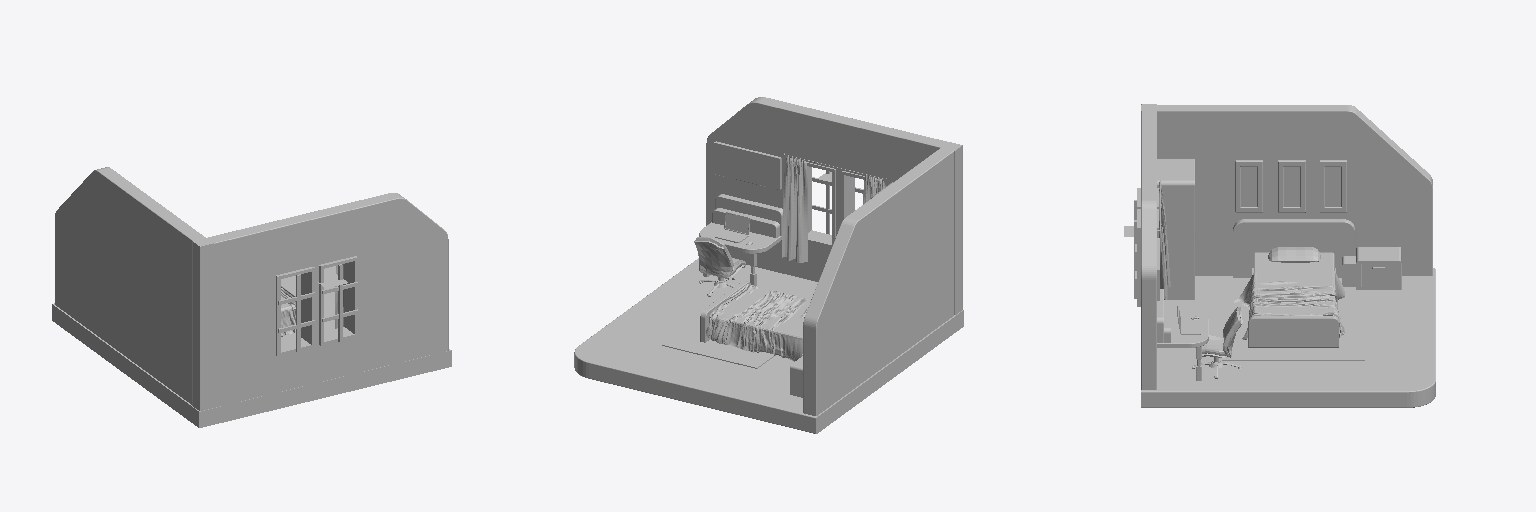
Rendered from Room6old.obj.
3 views of the same model, side by side, from view 1: azimuth 30°, elevation 25°; view 2: azimuth 150°, elevation 25°; view 3: azimuth 270°, elevation 25° (orthographic).
Parts seen in each view (by area): view 1: Room6.001; view 2: Room6.001; view 3: Room6.001.
Part boxes in pixels (x1,y1,x2,y2): Room6.001: (52, 167, 451, 427); Room6.001: (574, 97, 963, 433); Room6.001: (1124, 104, 1435, 407).
Bounding box in the file's own units: 22.1 × 15.16 × 23.63.